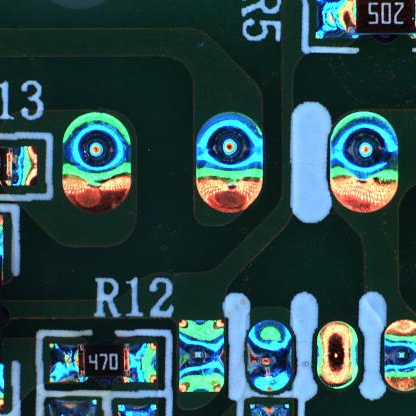spot: (57, 107, 137, 216), (327, 105, 402, 214), (191, 110, 264, 215), (172, 310, 232, 397), (242, 314, 300, 397), (310, 317, 364, 391)
